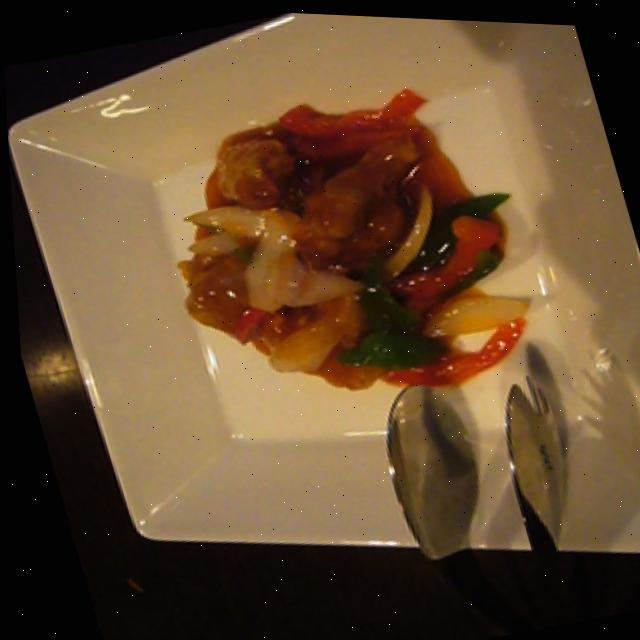猪肉菜式: (132, 58, 550, 434)
